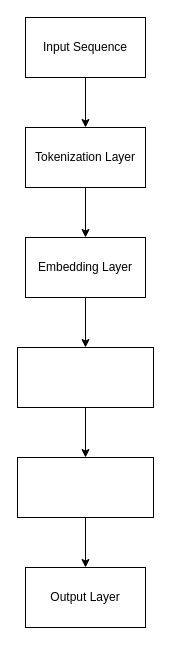
This 171x645 diagram has some shape labels left out. The box of each missing label's shape, as (x1, y1, x2, y2) in pixels:
Transformer Decoder: (16, 456, 154, 518)
Transformer Encoder: (16, 346, 154, 408)
